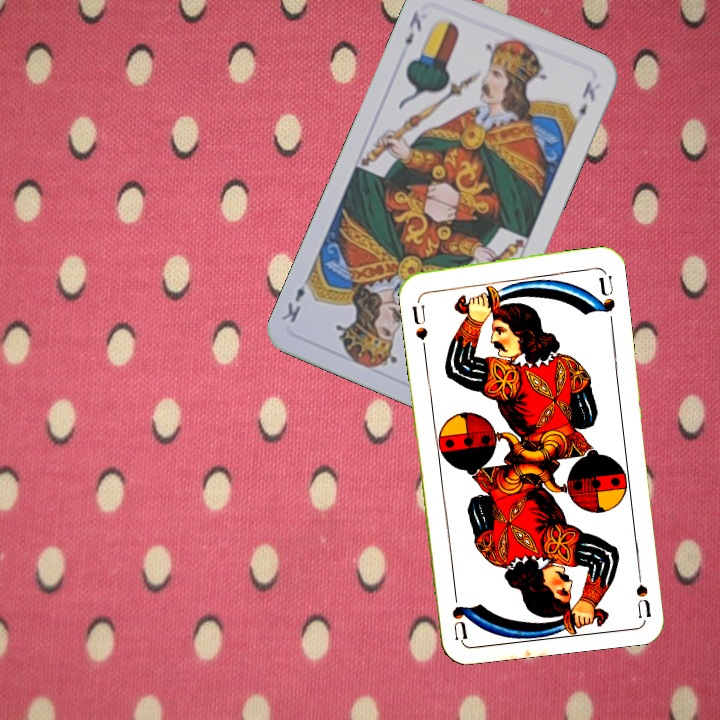EK: (396, 7, 425, 59)
SU: (632, 559, 653, 618), (408, 301, 430, 342)
